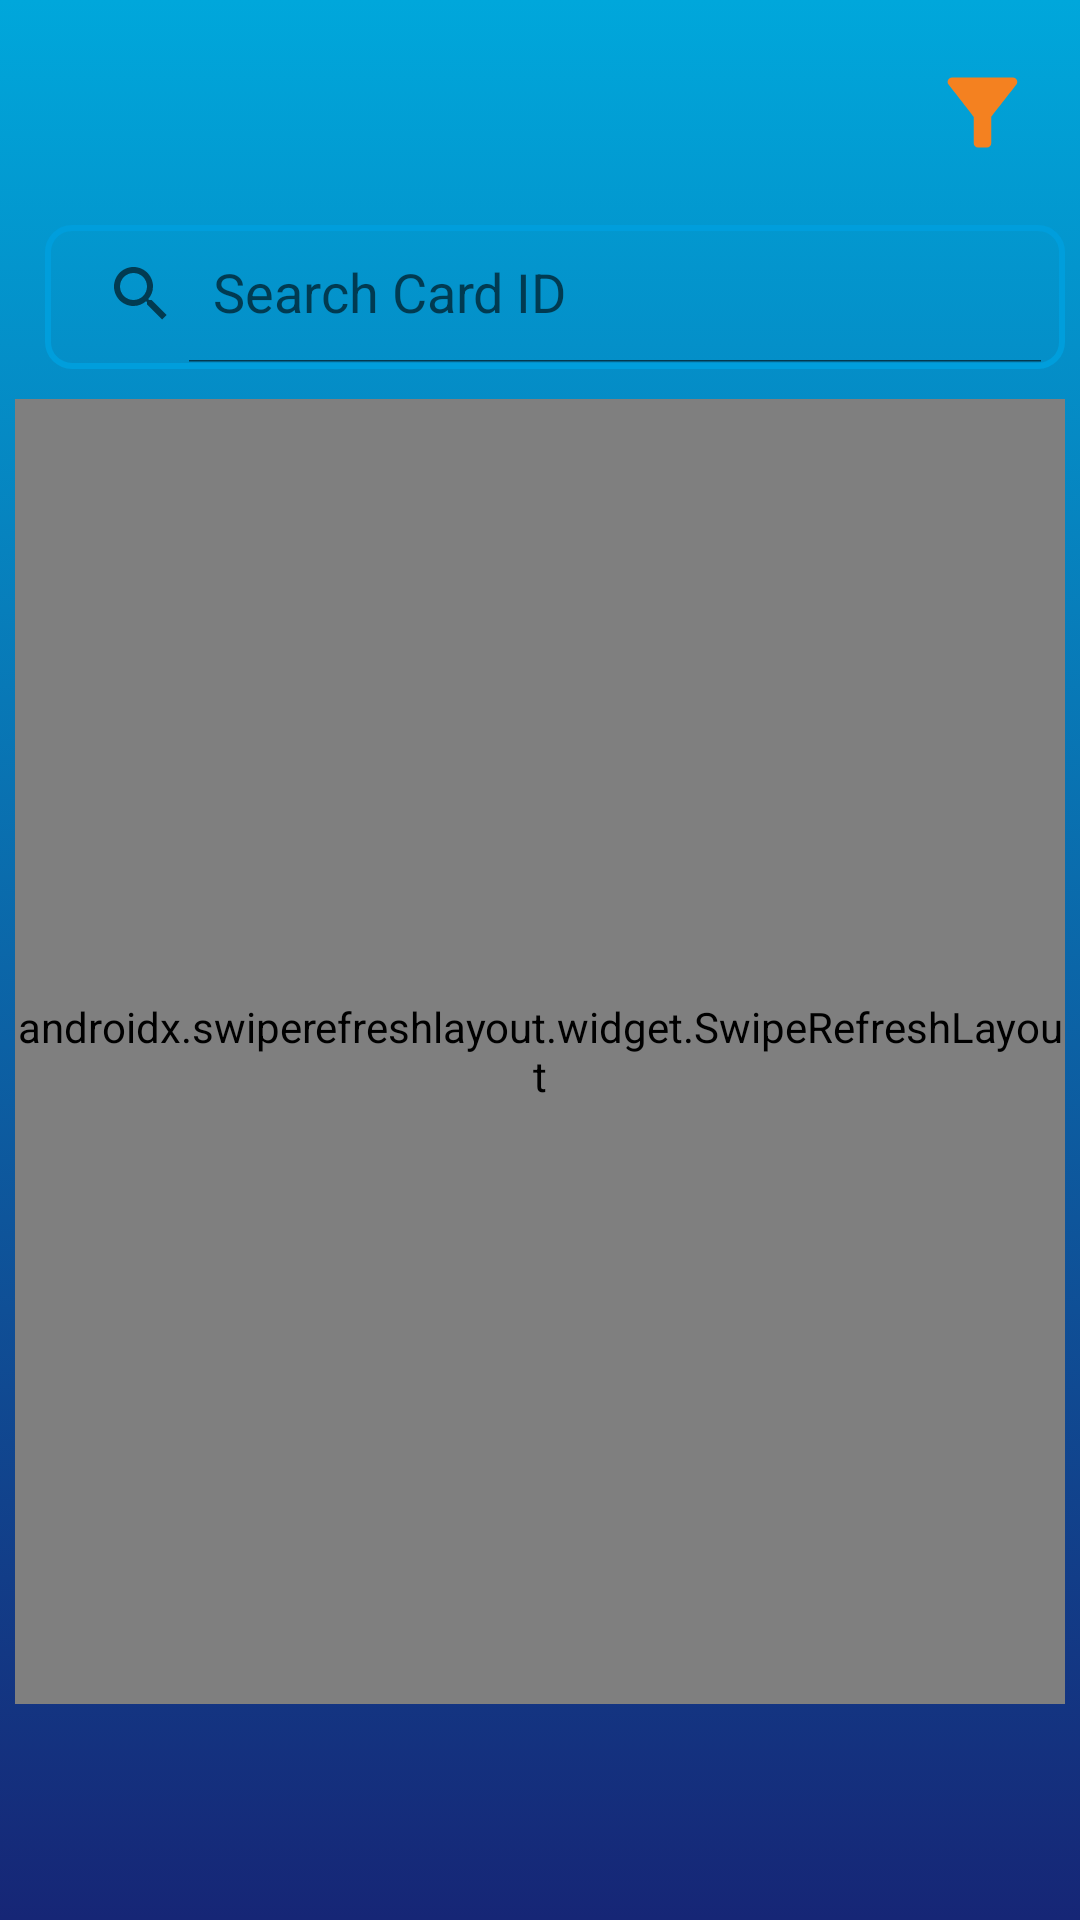

Icon bounding boxes for this 1080w x 1920h phone screenshot, format (x1, y1, x2, y2):
filter: (947, 77, 1018, 148)
